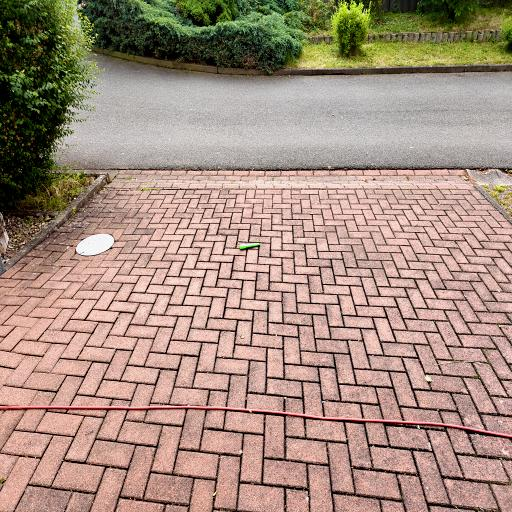Probe-Detection: (239, 243, 260, 250)
